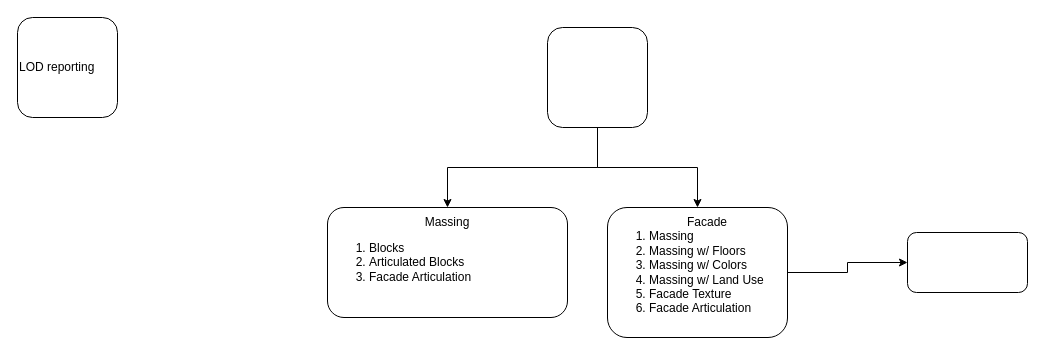
This 1045x355 diagram has some shape labels left out. Here are the shapes that lost their labels. From the top down, the centre of each, then its label:
(597,77): LOD Visual
(967,262): Modifiable Colors and facade
